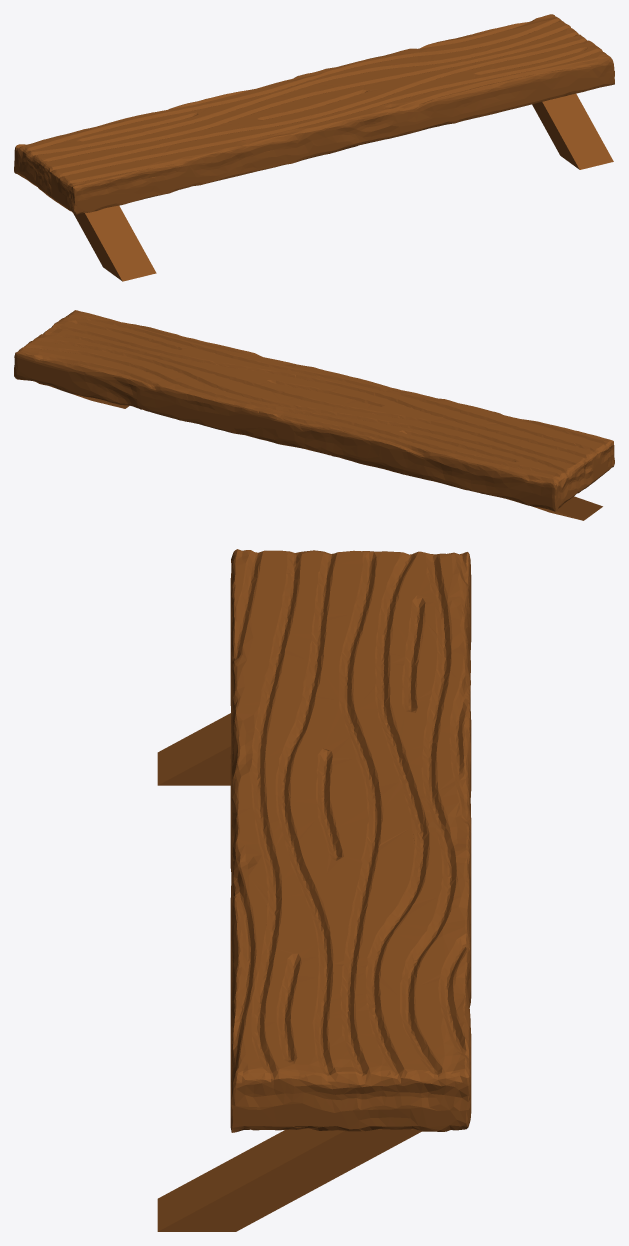
The model's file is WallShelf.glb.
3 renders of one model, top to bottom at view 1: azimuth 30°, elevation 25°; view 2: azimuth 150°, elevation 25°; view 3: azimuth 270°, elevation 25°, orthographic. The views are drawn at different scales.
Parts seen in each view (by area): view 1: Plane.002, Plane.003, Plane.001; view 2: Plane.002, Plane.003; view 3: Plane.002, Plane.001, Plane.003.
Part boxes in pixels (left/top/right/bottom): Plane.002: left=14, top=14, right=614, bottom=214; Plane.003: left=74, top=205, right=156, bottom=281; Plane.001: left=532, top=93, right=613, bottom=169; Plane.002: left=14, top=310, right=614, bottom=511; Plane.003: left=532, top=496, right=602, bottom=520; Plane.002: left=230, top=549, right=471, bottom=1132; Plane.001: left=157, top=1129, right=421, bottom=1231; Plane.003: left=157, top=713, right=230, bottom=785.
Bounding box in the file's own units: 1.8 × 0.2799 × 0.4526.
